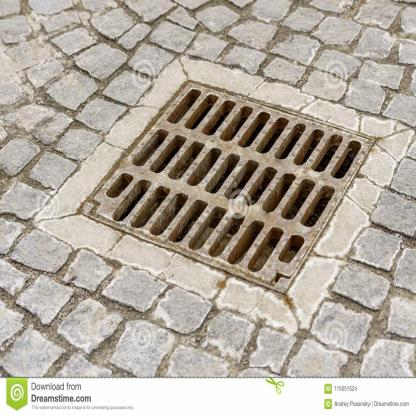open manhole-not overflowing-: (72, 77, 380, 314)
